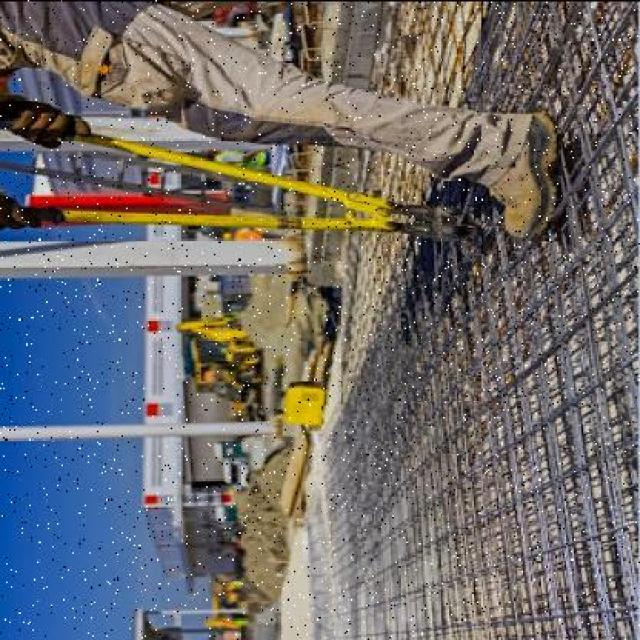shoes: (479, 113, 570, 238)
